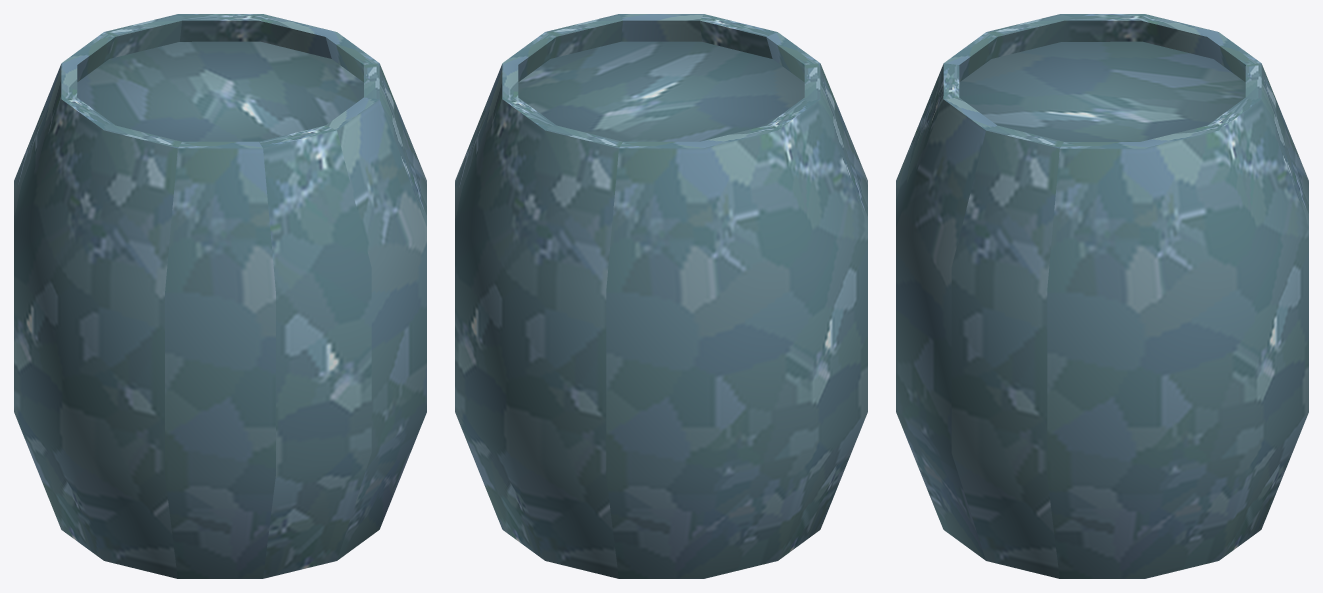
File: mm9_deco_barrelwater.glb
The picture shows the model from 3 angles, left to right: view 1: azimuth 30°, elevation 25°; view 2: azimuth 150°, elevation 25°; view 3: azimuth 270°, elevation 25°; orthographic projection.
Visible parts, largest first — view 1: Barrelwater; view 2: Barrelwater; view 3: Barrelwater.
Boxes of the visible parts, x1,y1,x2,y2 form: Barrelwater: (14,14,426,578); Barrelwater: (455,14,867,578); Barrelwater: (896,14,1308,578).
Bounding box in the file's own units: 0.8716 × 1 × 0.8716.
Materials: 1 (1 with a texture image).
